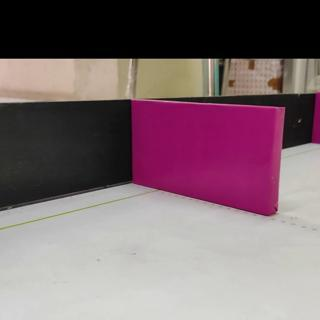xparking: (135, 108, 274, 214)
